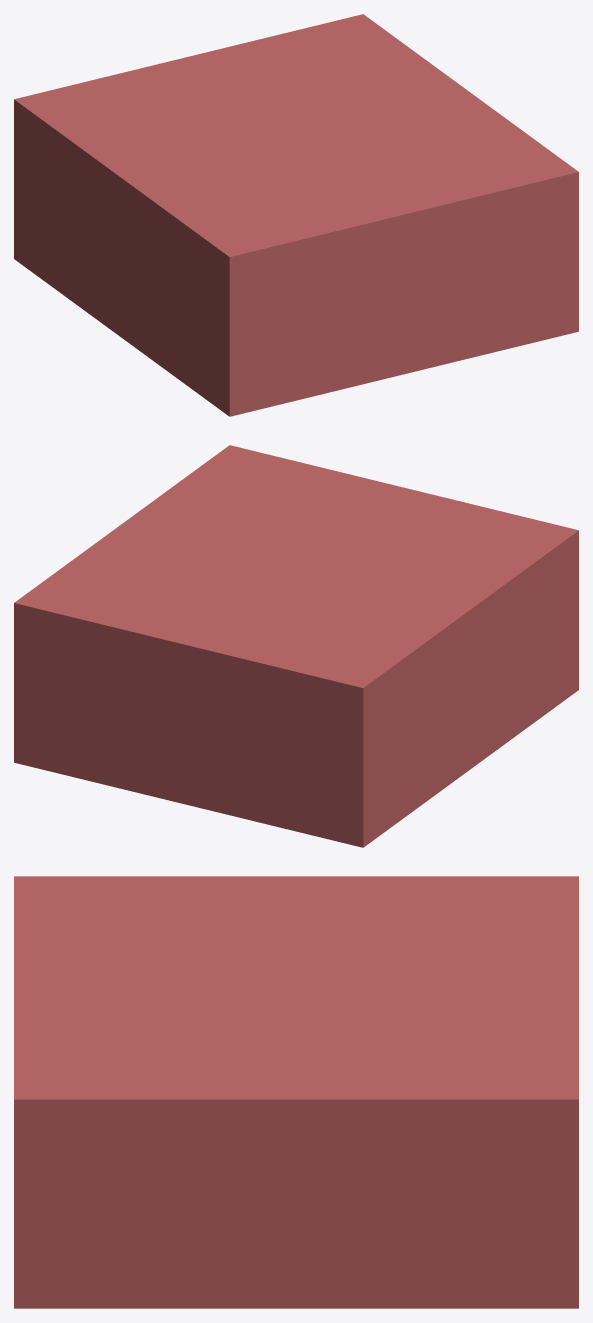
Rendered from order_106647_pall_5.glb.
The picture shows the model from 3 angles, top to bottom: view 1: azimuth 30°, elevation 25°; view 2: azimuth 150°, elevation 25°; view 3: azimuth 270°, elevation 25°; orthographic projection. The views are drawn at different scales.
Parts seen in each view (by area): view 1: world; view 2: world; view 3: world.
Boxes of the visible parts, x1,y1,x2,y2 form: world: (14, 14, 578, 416); world: (14, 445, 578, 847); world: (14, 876, 578, 1308).
Size of the model in its own units: 760 by 332 by 813.
